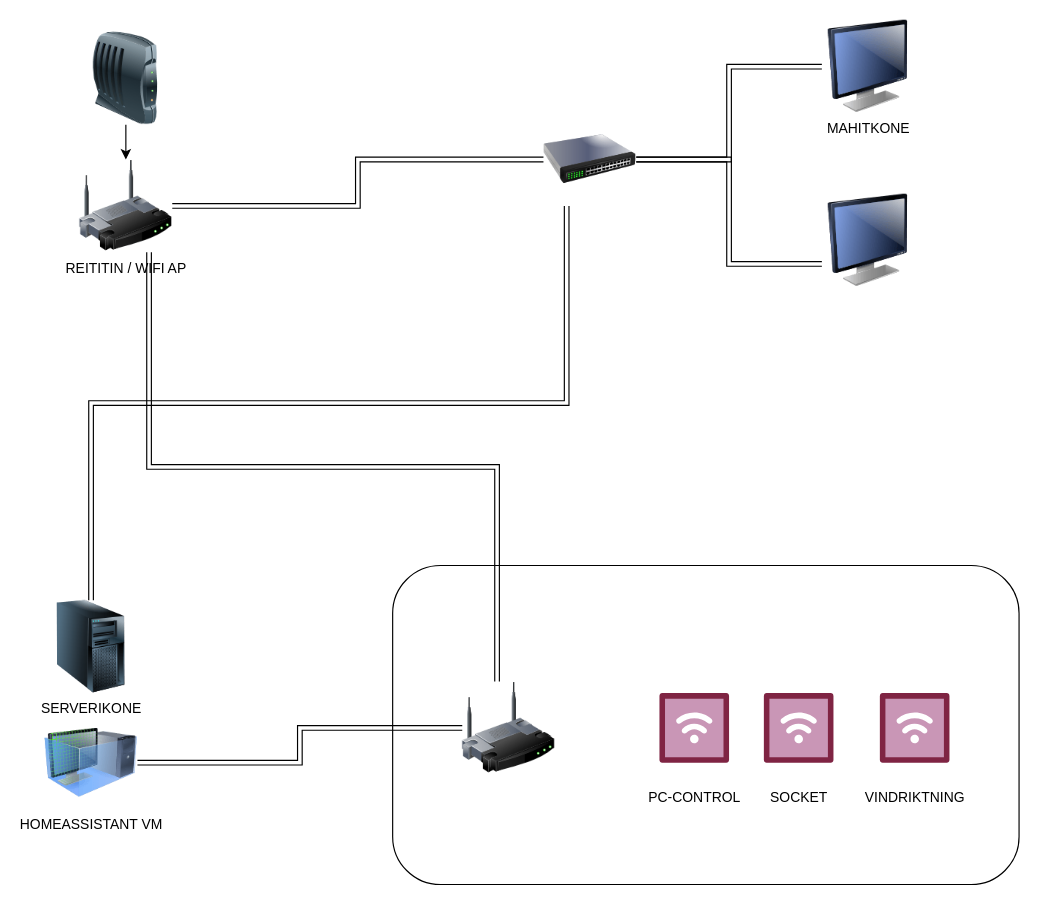
This 1039x905 diagram has some shape labels left out. The shapes that lost their labels are listed below. From the top down, each one's centre as x and y in pixels, then its label:
the point at 125,77: MODEEMI
the point at 867,240: HTPC
the point at 508,727: ESPHOME WIFI REITITIN
